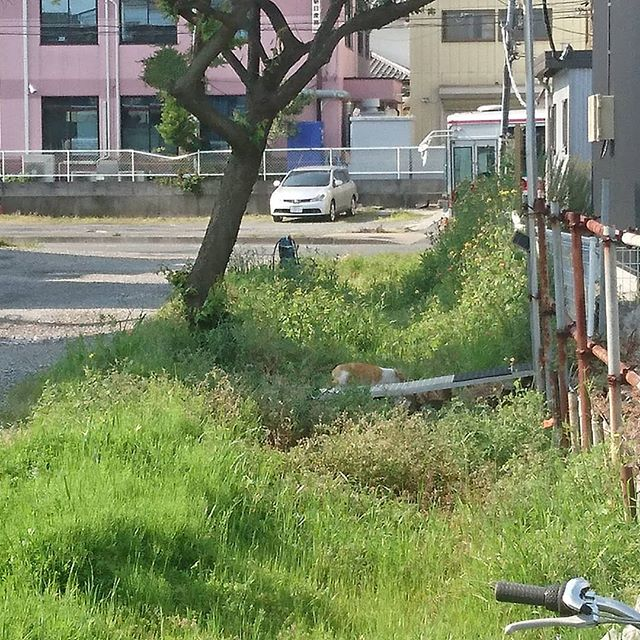animal: (328, 351, 428, 399)
building: (1, 1, 335, 161), (395, 1, 625, 179), (548, 1, 640, 307)
car: (263, 159, 366, 224)
tree: (176, 1, 390, 303)
vegetation: (1, 233, 582, 640)
